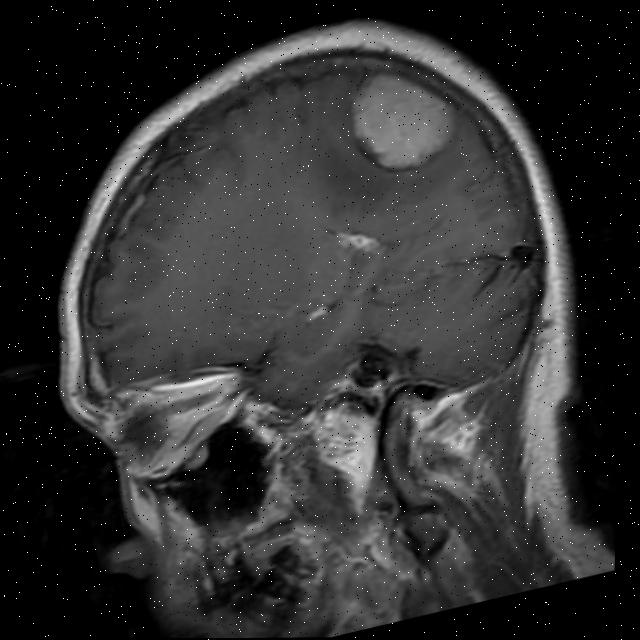Meningioma: (337, 57, 467, 179)
